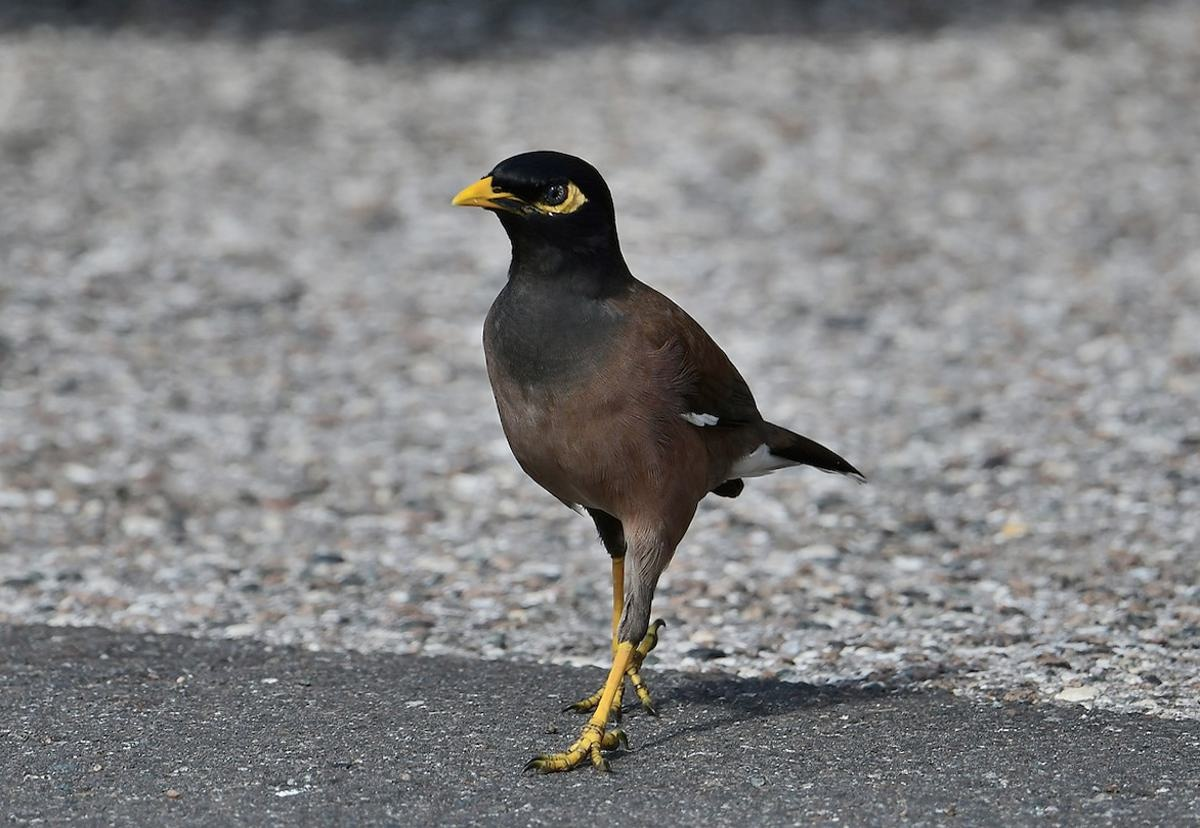myna: (434, 115, 839, 760)
